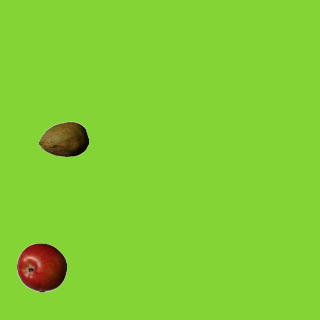Apple Braeburn: (16, 242, 66, 292)
Papaya: (38, 114, 88, 164)
